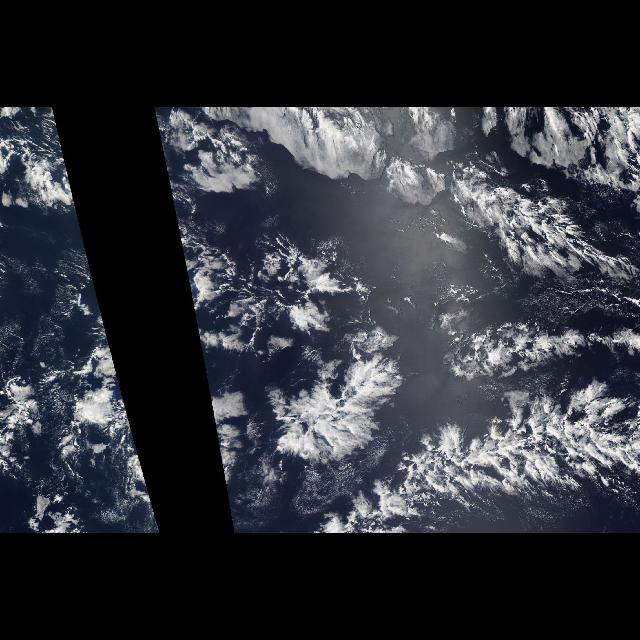Fish: (264, 147, 638, 533)
